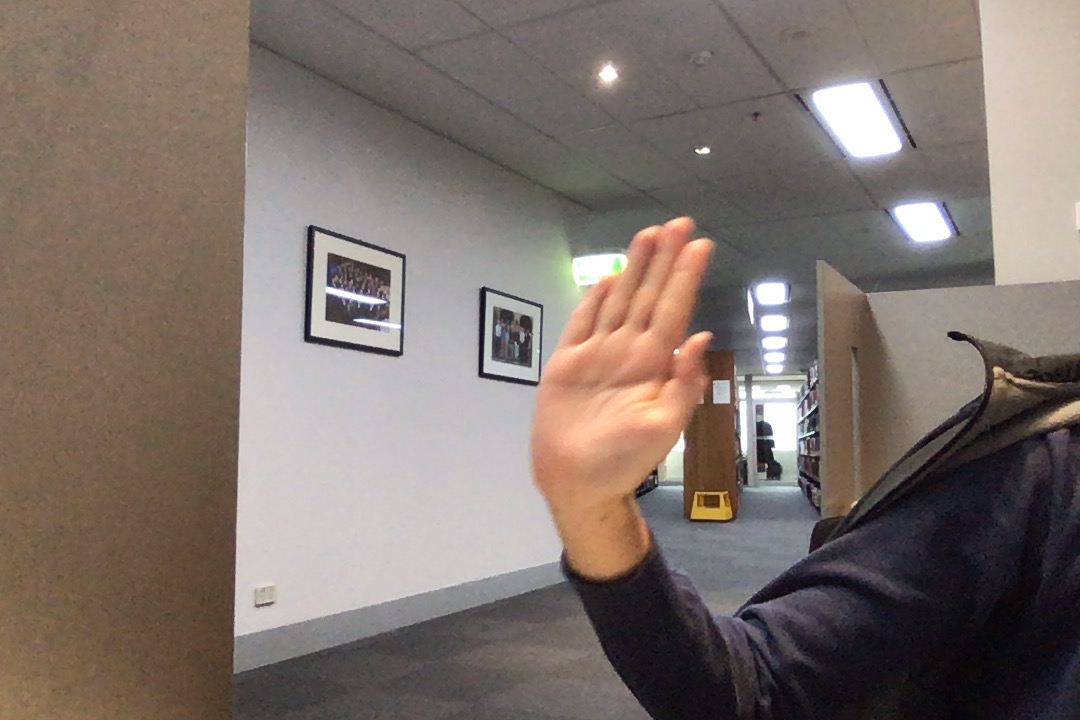palmhand: (519, 212, 719, 519)
